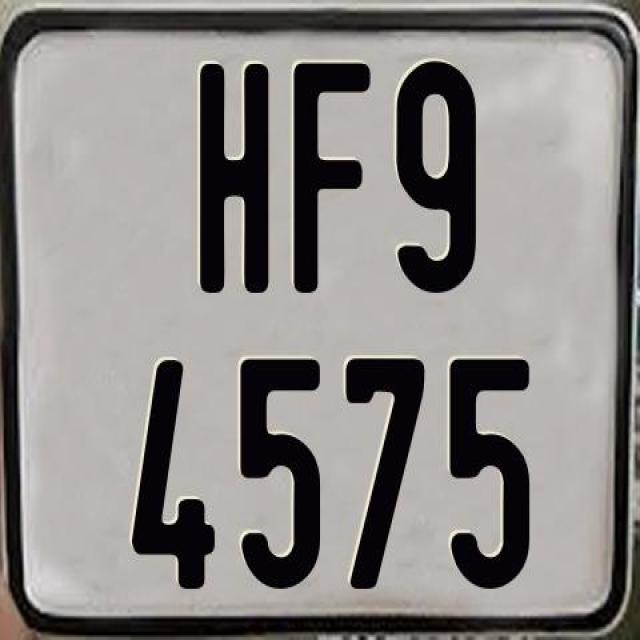4: (130, 358, 217, 588)
5: (446, 358, 534, 598), (237, 357, 324, 587)
7: (345, 358, 427, 589)
9: (392, 58, 479, 299)
F: (290, 61, 370, 294)
H: (196, 64, 268, 293)
